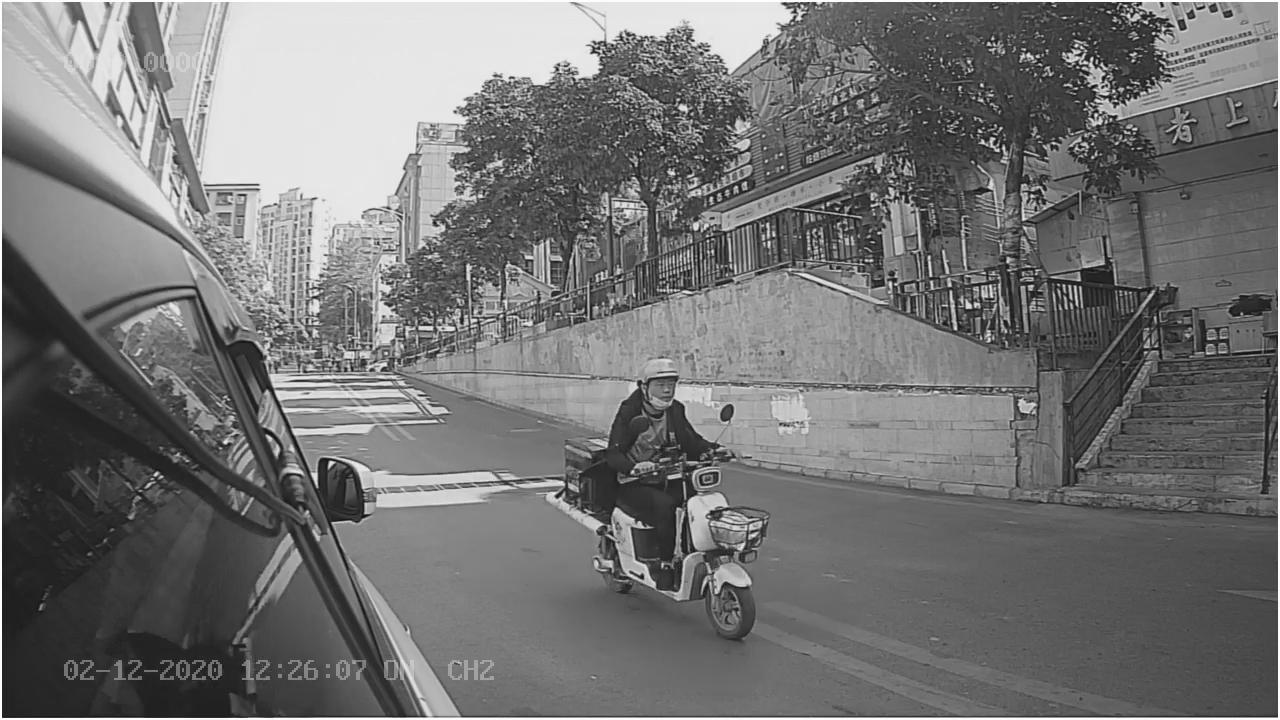person: (600, 351, 706, 473)
